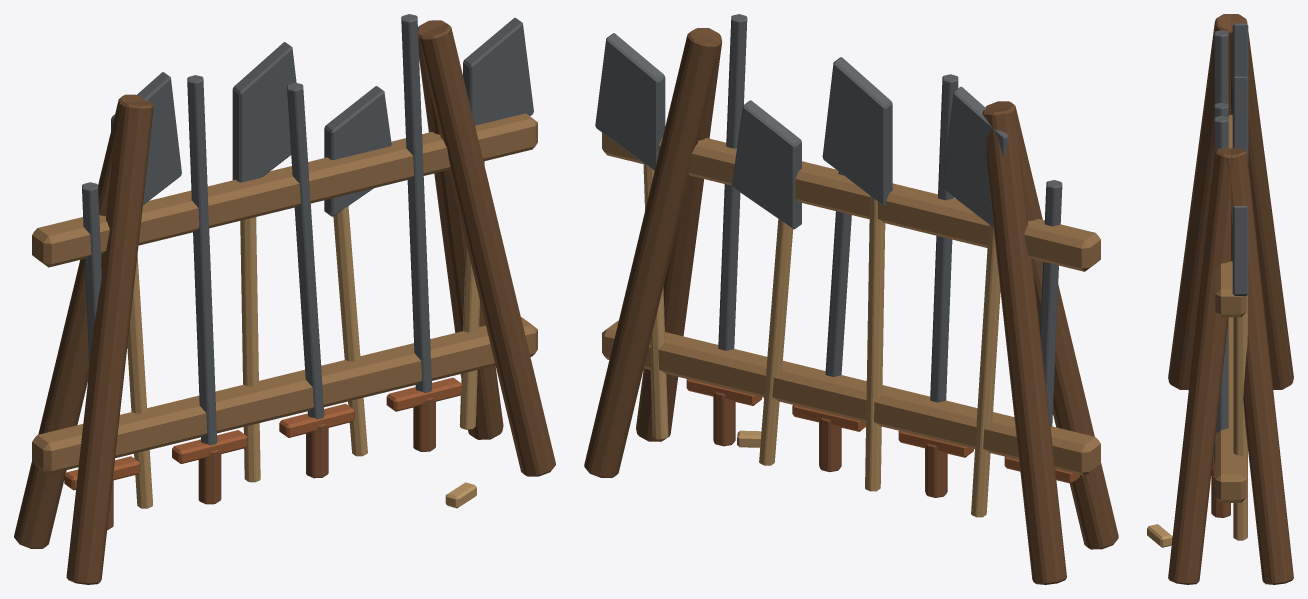
File: runtime.glb
The picture shows the model from 3 angles, left to right: view 1: azimuth 30°, elevation 25°; view 2: azimuth 150°, elevation 25°; view 3: azimuth 270°, elevation 25°; orthographic projection. The views are drawn at different scales.
Parts seen in each view (by area): view 1: falkenwacht-weapon-rack-v09_nocol; view 2: falkenwacht-weapon-rack-v09_nocol; view 3: falkenwacht-weapon-rack-v09_nocol.
Boxes of the visible parts, box(x1,y1,x2,y2) form: falkenwacht-weapon-rack-v09_nocol: box(14, 14, 555, 584); falkenwacht-weapon-rack-v09_nocol: box(584, 14, 1118, 584); falkenwacht-weapon-rack-v09_nocol: box(1147, 14, 1293, 584).
Size of the model in its own units: 2.16 by 1.93 by 0.6144.
